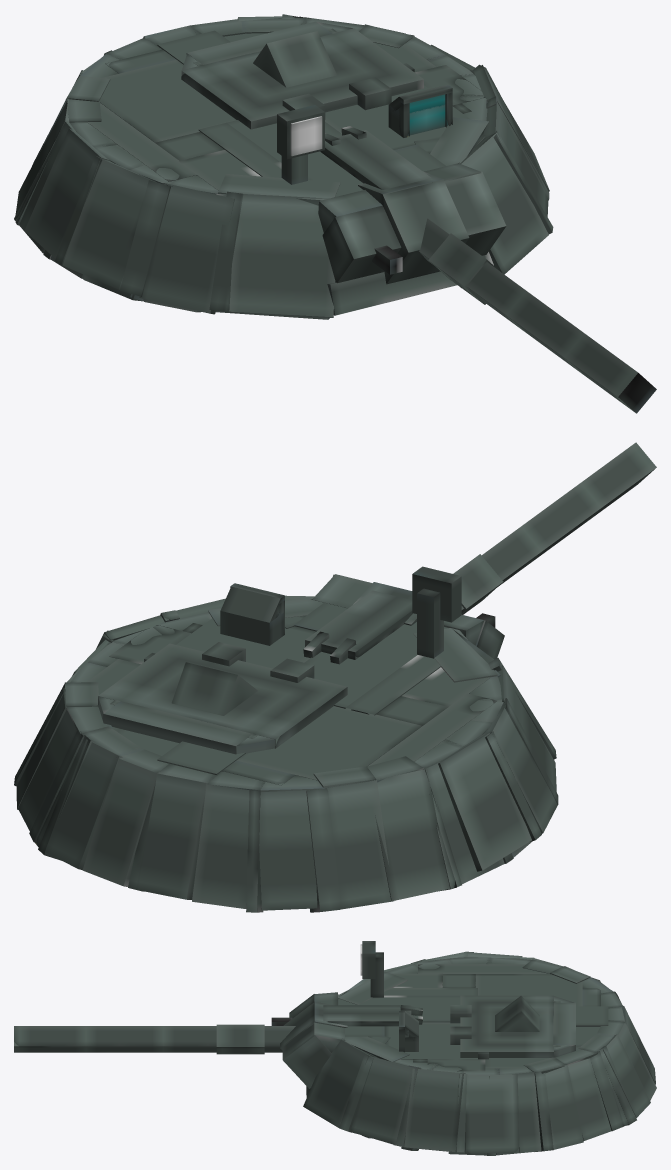
Rendered from turret_bmd1.obj.
3 renders of one model, top to bottom at view 1: azimuth 30°, elevation 25°; view 2: azimuth 150°, elevation 25°; view 3: azimuth 270°, elevation 25°, orthographic. The views are drawn at different scales.
Visible parts, largest first — view 1: turret, gun; view 2: turret, gun; view 3: turret, gun.
Part boxes in pixels (left/top/right/bottom): turret: left=14, top=14, right=553, bottom=319; gun: left=318, top=163, right=656, bottom=413; turret: left=14, top=566, right=558, bottom=912; gun: left=312, top=442, right=656, bottom=659; turret: left=303, top=941, right=656, bottom=1155; gun: left=14, top=992, right=347, bottom=1088.
Bounding box in the file's own units: 2.03 × 0.7739 × 3.61.
